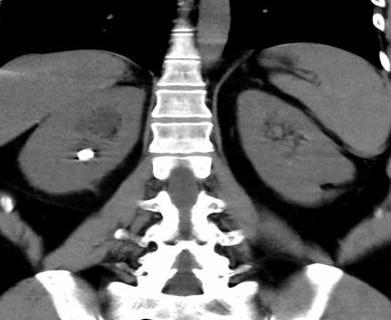Tas_Var: (76, 146, 96, 163)
